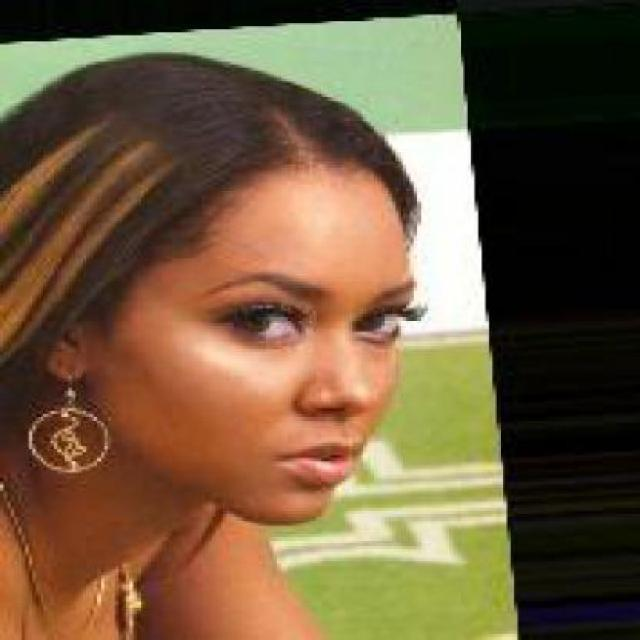closed-mouth: (274, 437, 363, 485)
